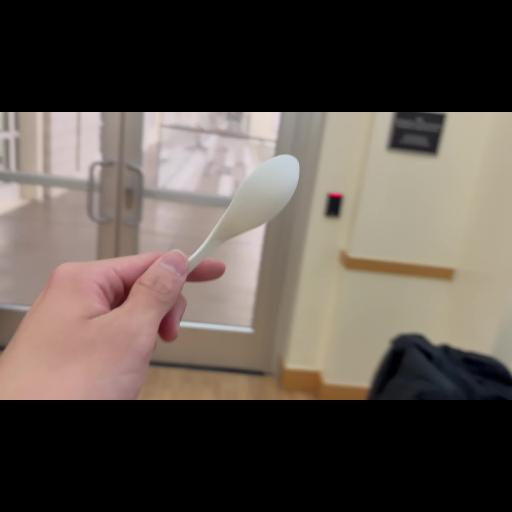utensil: (166, 152, 302, 290)
